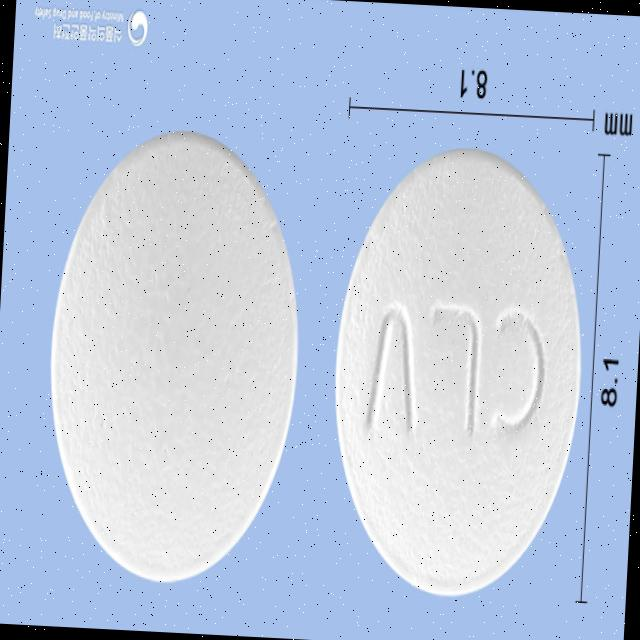Clevote: (323, 142, 592, 608)
